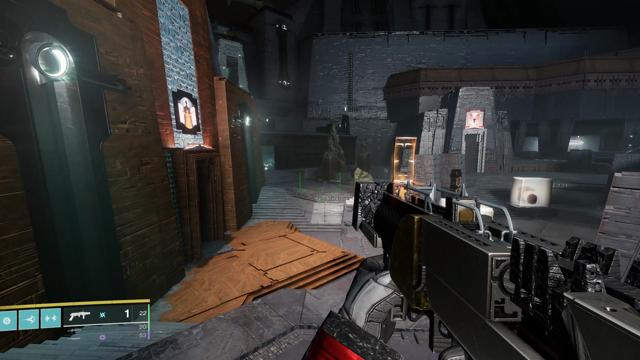give: (468, 113, 481, 125)
worship: (178, 97, 197, 129)
